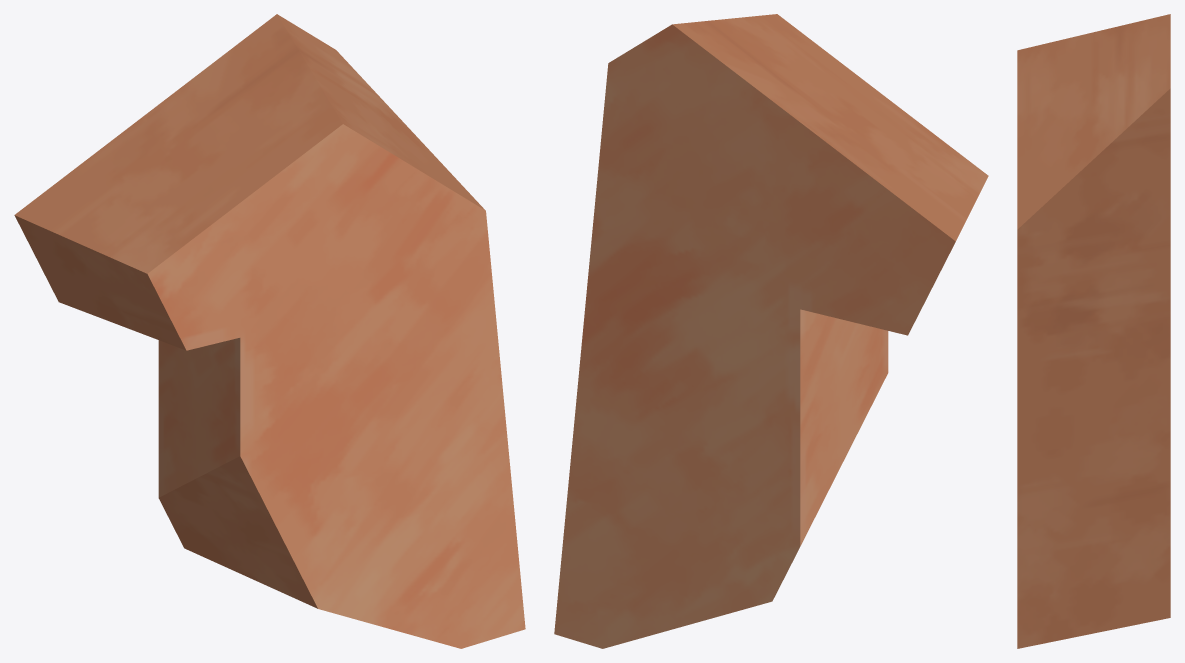
Rendered from wall_upper_window_s03.fbx.
The picture shows the model from 3 angles, left to right: view 1: azimuth 30°, elevation 25°; view 2: azimuth 150°, elevation 25°; view 3: azimuth 270°, elevation 25°; orthographic projection. The views are drawn at different scales.
Parts seen in each view (by area): view 1: wall_upper_window_s03; view 2: wall_upper_window_s03; view 3: wall_upper_window_s03.
Part boxes in pixels (left/top/right/bottom): wall_upper_window_s03: left=14, top=14, right=525, bottom=648; wall_upper_window_s03: left=554, top=14, right=988, bottom=648; wall_upper_window_s03: left=1017, top=14, right=1170, bottom=648.
Bounding box in the file's own units: 3.03 × 4.05 × 1.
